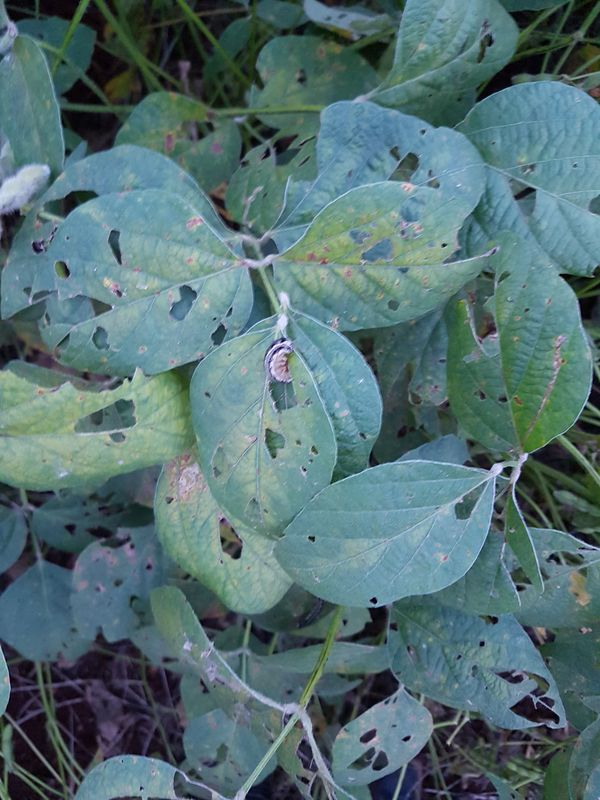Spodoptera_albula: (249, 329, 311, 396)
